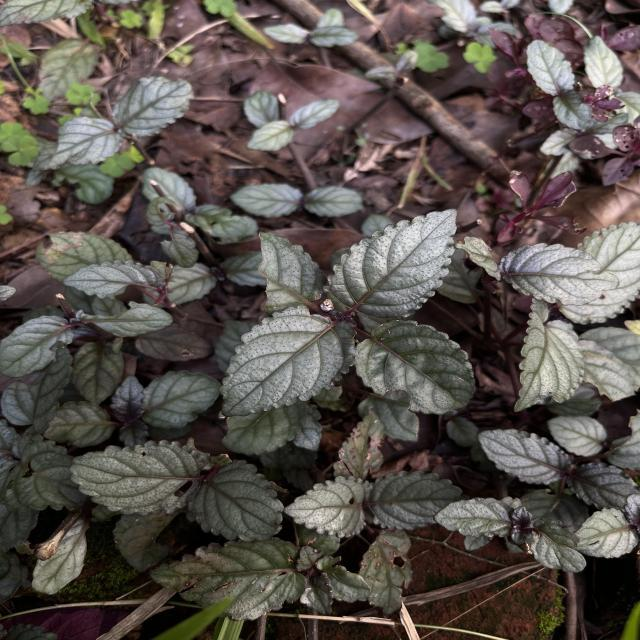Hemigraphis colorata: (217, 302, 362, 420), (320, 205, 460, 322), (146, 534, 308, 624), (351, 318, 478, 418), (68, 436, 204, 519), (512, 292, 588, 414), (182, 457, 287, 544), (498, 240, 622, 308), (254, 225, 326, 318), (282, 472, 375, 541), (371, 467, 466, 532), (476, 424, 574, 486), (141, 368, 222, 430), (0, 314, 76, 379), (61, 257, 168, 301), (568, 506, 640, 560), (430, 494, 514, 540)
